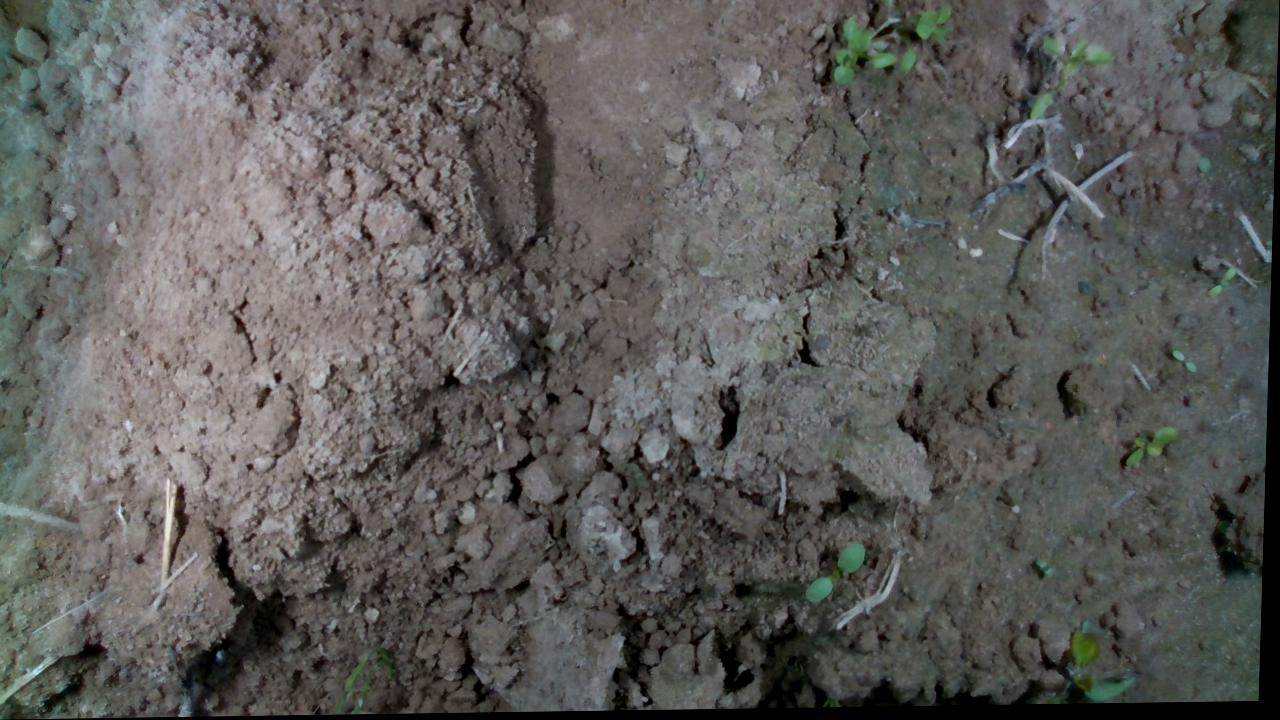weed: (807, 543, 868, 605), (1126, 427, 1182, 471), (1207, 269, 1237, 303), (1171, 352, 1199, 376)
